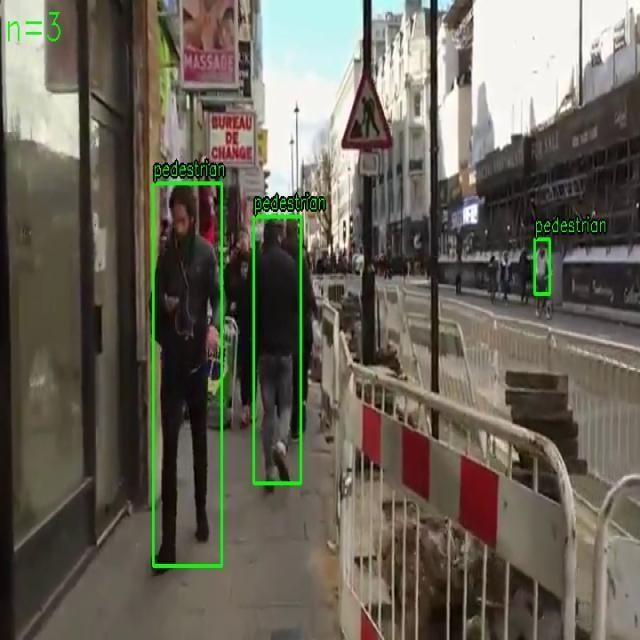person: (152, 183, 222, 566), (254, 216, 302, 484), (534, 238, 550, 294)
